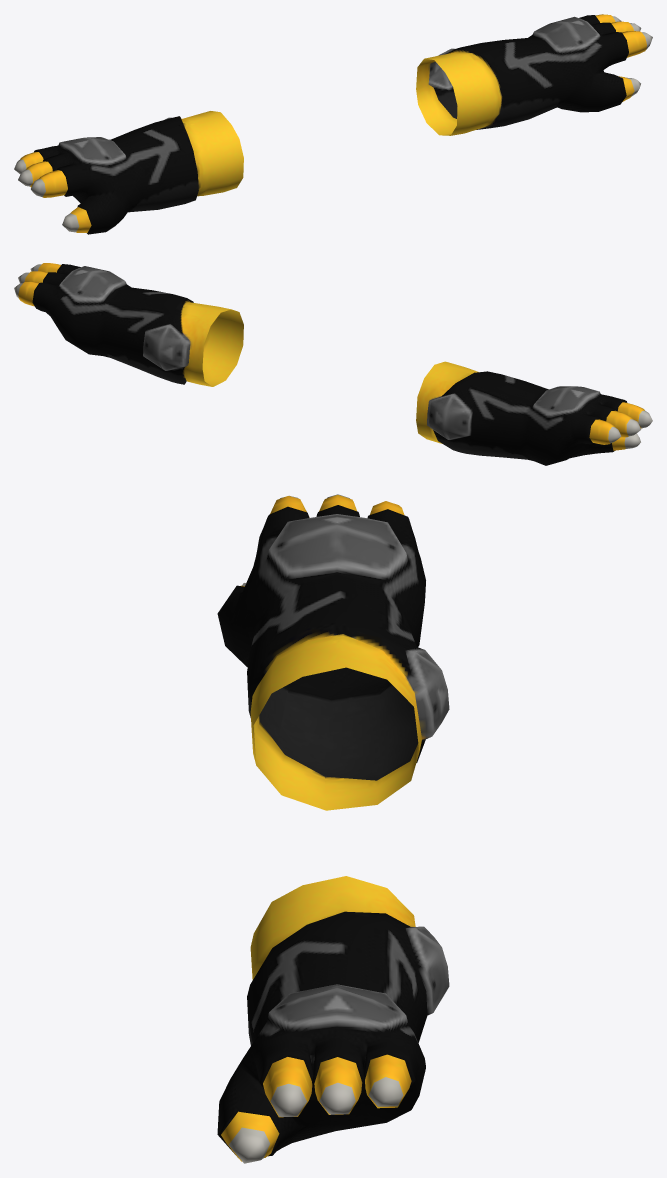
The picture shows the model from 3 angles, top to bottom: view 1: azimuth 30°, elevation 25°; view 2: azimuth 150°, elevation 25°; view 3: azimuth 270°, elevation 25°; orthographic projection. The views are drawn at different scales.
Parts seen in each view (by area): view 1: model_0_submesh_1, model_0_submesh_0; view 2: model_0_submesh_1, model_0_submesh_0; view 3: model_0_submesh_1, model_0_submesh_0.
Part boxes in pixels (x1,y1,x2,y2): model_0_submesh_1: [34, 15, 628, 234]; model_0_submesh_0: [14, 14, 652, 232]; model_0_submesh_1: [32, 264, 627, 465]; model_0_submesh_0: [14, 263, 652, 450]; model_0_submesh_1: [217, 505, 449, 1157]; model_0_submesh_0: [221, 494, 411, 1163].
Bounding box in the file's own units: 2.69 × 0.3403 × 0.4338.
